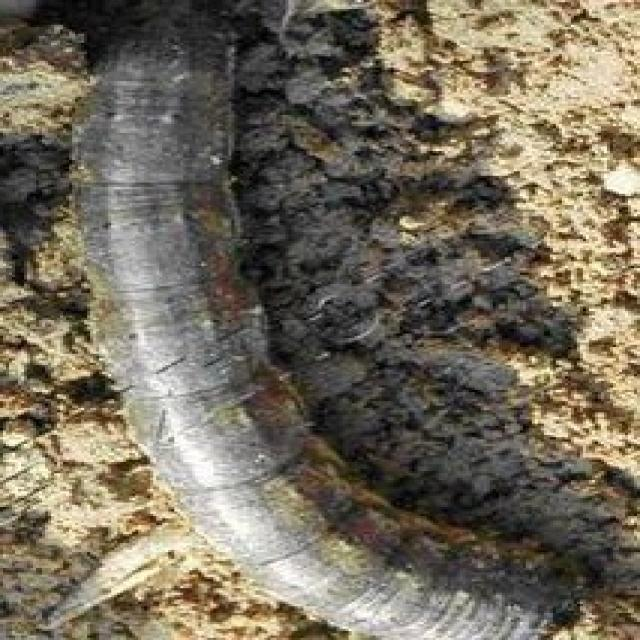black cutworm: (34, 5, 587, 640)
